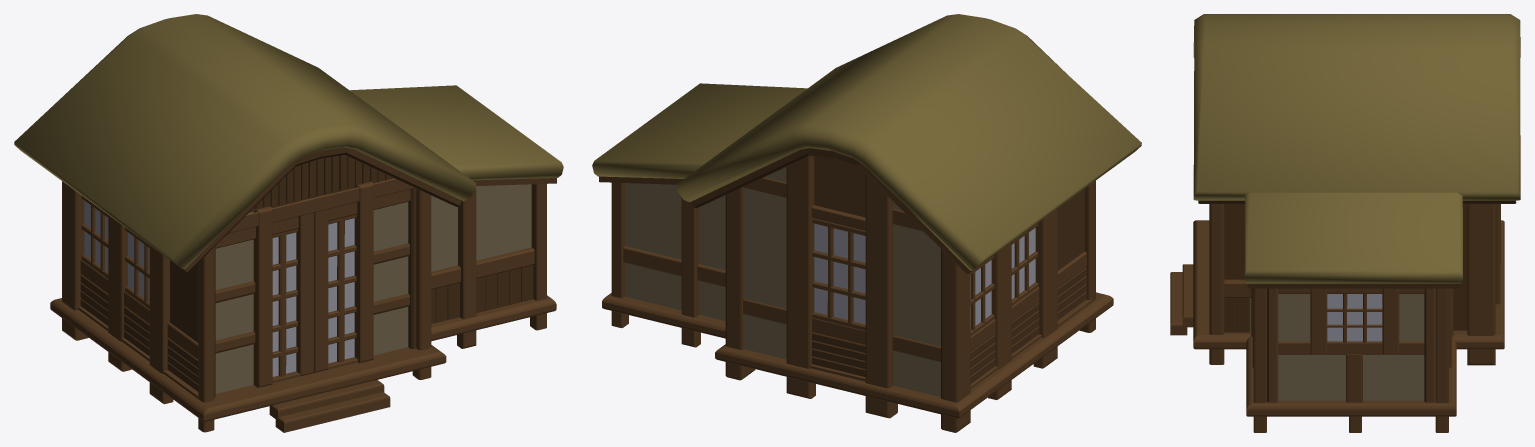
Rendered from CasaLarga.fbx.
The picture shows the model from 3 angles, left to right: view 1: azimuth 30°, elevation 25°; view 2: azimuth 150°, elevation 25°; view 3: azimuth 270°, elevation 25°; orthographic projection.
Visible parts, largest first — view 1: CasaLarga_LOD0; view 2: CasaLarga_LOD0; view 3: CasaLarga_LOD0.
Boxes of the visible parts, box(x1,y1,x2,y2) form: CasaLarga_LOD0: box(14, 14, 563, 432); CasaLarga_LOD0: box(592, 14, 1141, 432); CasaLarga_LOD0: box(1170, 14, 1520, 432).
Size of what is drawn, in the model's own units: 691 by 445 by 498.
